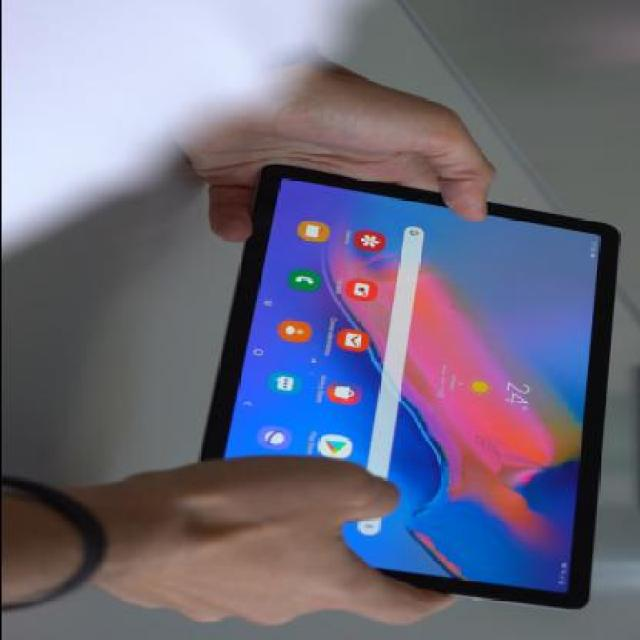tablet: (200, 175, 622, 621)
